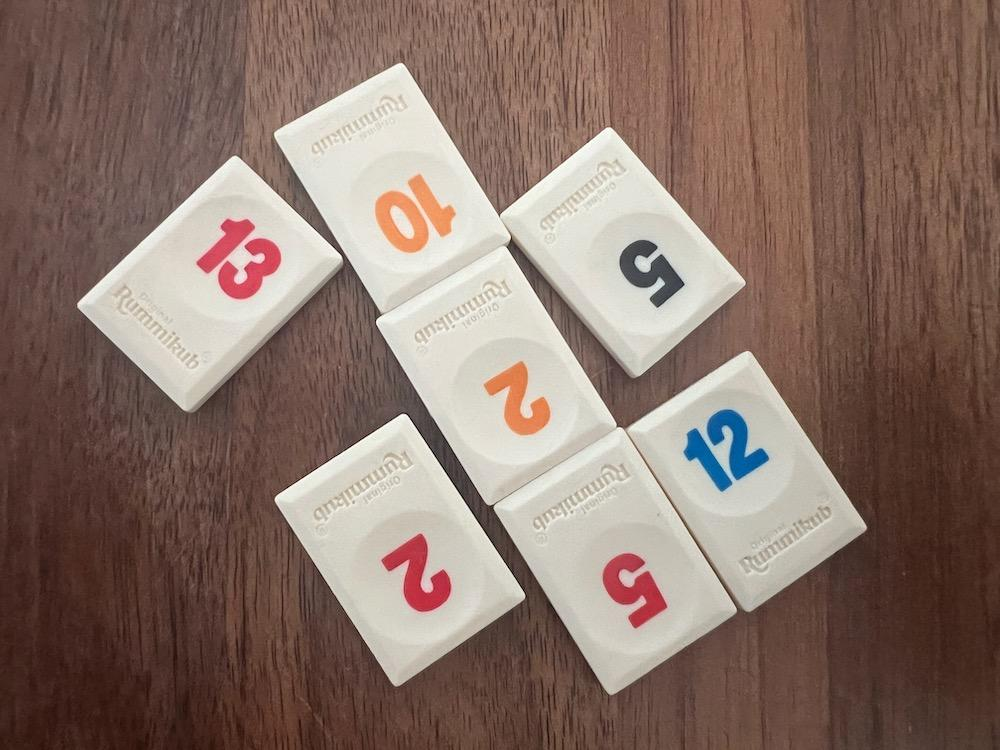black_5: (502, 129, 744, 377)
blue_12: (627, 352, 865, 611)
orange_10: (275, 64, 510, 312)
orange_2: (377, 248, 615, 504)
red_13: (78, 156, 342, 412)
red_2: (275, 414, 523, 686)
red_5: (494, 428, 736, 693)
